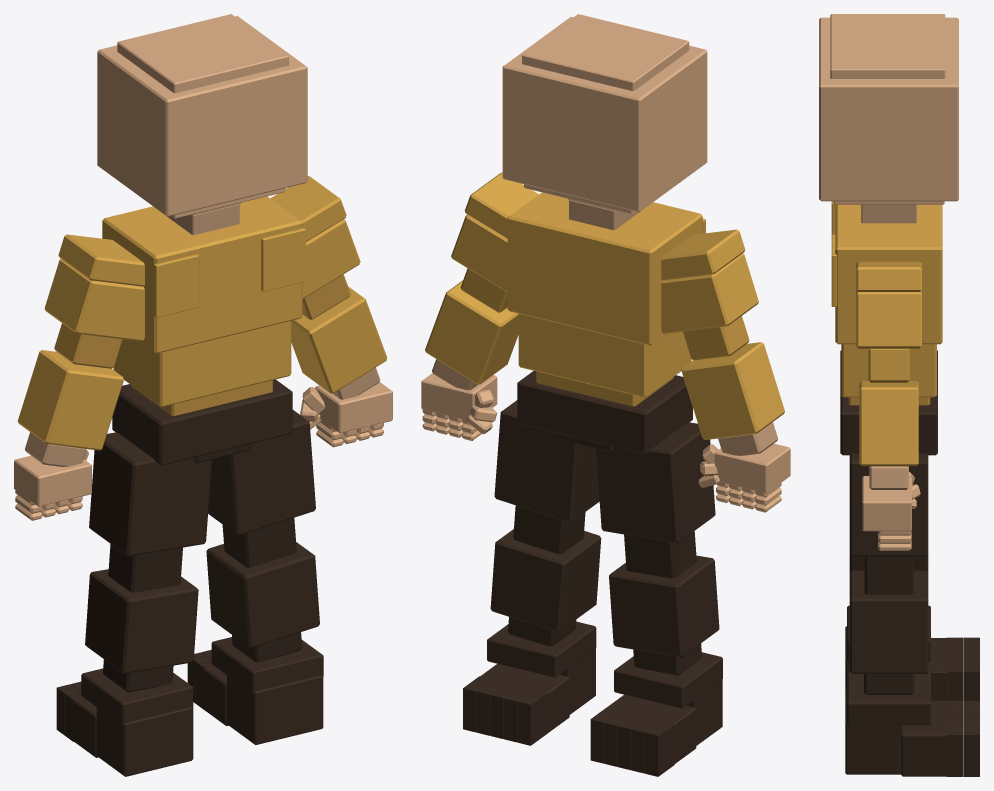
Rendered from npc_comida.glb.
3 renders of one model, left to right at view 1: azimuth 30°, elevation 25°; view 2: azimuth 150°, elevation 25°; view 3: azimuth 270°, elevation 25°, orthographic. The views are drawn at different scales.
Visible parts, largest first — view 1: Geo_Head_Runtime, Geo_Chest_Runtime, Geo_Thigh_L_Runtime, Geo_Abdomen_Runtime, Geo_Shin_L_Runtime, Geo_Pelvis_Runtime, Geo_Shin_R_Runtime, Geo_Thigh_R_Runtime, Geo_HeadTop_Runtime, Geo_ForeArm_L_Runtime, Geo_ForeArm_R_Runtime, Geo_UpperArm_L_Runtime (+23 smaller); view 2: Geo_Head_Runtime, Geo_Chest_Runtime, Geo_Thigh_L_Runtime, Geo_Abdomen_Runtime, Geo_Shin_L_Runtime, Geo_Pelvis_Runtime, Geo_Shin_R_Runtime, Geo_Thigh_R_Runtime, Geo_HeadTop_Runtime, Geo_ForeArm_L_Runtime, Geo_ForeArm_R_Runtime, Geo_UpperArm_L_Runtime (+31 smaller); view 3: Geo_Head_Runtime, Geo_Chest_Runtime, Geo_HeadTop_Runtime, Geo_Shin_R_Runtime, Geo_ForeArm_R_Runtime, Geo_UpperArm_R_Runtime, Geo_Thigh_R_Runtime, Geo_AnkleCuff_R_Runtime, Geo_Heel_R_Runtime, Geo_Foot_R_Runtime, Geo_Abdomen_Runtime, Geo_Pelvis_Runtime (+17 smaller).
Boxes of the visible parts, x1,y1,x2,y2 form: Geo_Head_Runtime: [97, 16, 307, 216]; Geo_Chest_Runtime: [102, 196, 302, 353]; Geo_Thigh_L_Runtime: [89, 432, 211, 556]; Geo_Abdomen_Runtime: [113, 321, 291, 407]; Geo_Shin_L_Runtime: [85, 569, 198, 673]; Geo_Pelvis_Runtime: [112, 379, 292, 465]; Geo_Shin_R_Runtime: [206, 542, 319, 647]; Geo_Thigh_R_Runtime: [208, 410, 315, 535]; Geo_HeadTop_Runtime: [117, 14, 288, 93]; Geo_ForeArm_L_Runtime: [17, 350, 123, 450]; Geo_ForeArm_R_Runtime: [291, 286, 387, 393]; Geo_UpperArm_L_Runtime: [44, 259, 144, 341]; Geo_Head_Runtime: [502, 17, 707, 212]; Geo_Chest_Runtime: [507, 192, 702, 345]; Geo_Thigh_L_Runtime: [596, 422, 715, 543]; Geo_Abdomen_Runtime: [518, 314, 691, 397]; Geo_Shin_L_Runtime: [609, 555, 719, 657]; Geo_Pelvis_Runtime: [517, 371, 692, 454]; Geo_Shin_R_Runtime: [490, 529, 601, 632]; Geo_Thigh_R_Runtime: [494, 400, 599, 522]; Geo_HeadTop_Runtime: [522, 14, 689, 91]; Geo_ForeArm_L_Runtime: [681, 342, 784, 439]; Geo_ForeArm_R_Runtime: [425, 280, 518, 384]; Geo_UpperArm_L_Runtime: [661, 253, 758, 333]; Geo_Head_Runtime: [819, 17, 958, 201]; Geo_Chest_Runtime: [835, 204, 942, 344]; Geo_HeadTop_Runtime: [830, 14, 945, 78]; Geo_Shin_R_Runtime: [849, 570, 928, 673]; Geo_ForeArm_R_Runtime: [859, 381, 918, 466]; Geo_UpperArm_R_Runtime: [856, 290, 921, 348]; Geo_Thigh_R_Runtime: [849, 453, 928, 556]; Geo_AnkleCuff_R_Runtime: [847, 669, 930, 725]; Geo_Heel_R_Runtime: [845, 689, 902, 774]; Geo_Foot_R_Runtime: [901, 701, 946, 776]; Geo_Abdomen_Runtime: [841, 344, 936, 397]; Geo_Pelvis_Runtime: [840, 350, 937, 455].
Bounding box in the file's own units: 1.07 × 1.98 × 0.4192.
